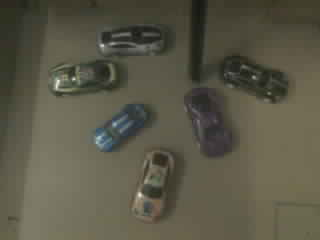Car: (184, 87, 230, 155), (132, 149, 174, 221), (222, 56, 287, 101), (94, 104, 148, 151), (49, 59, 118, 95), (98, 24, 165, 55)
